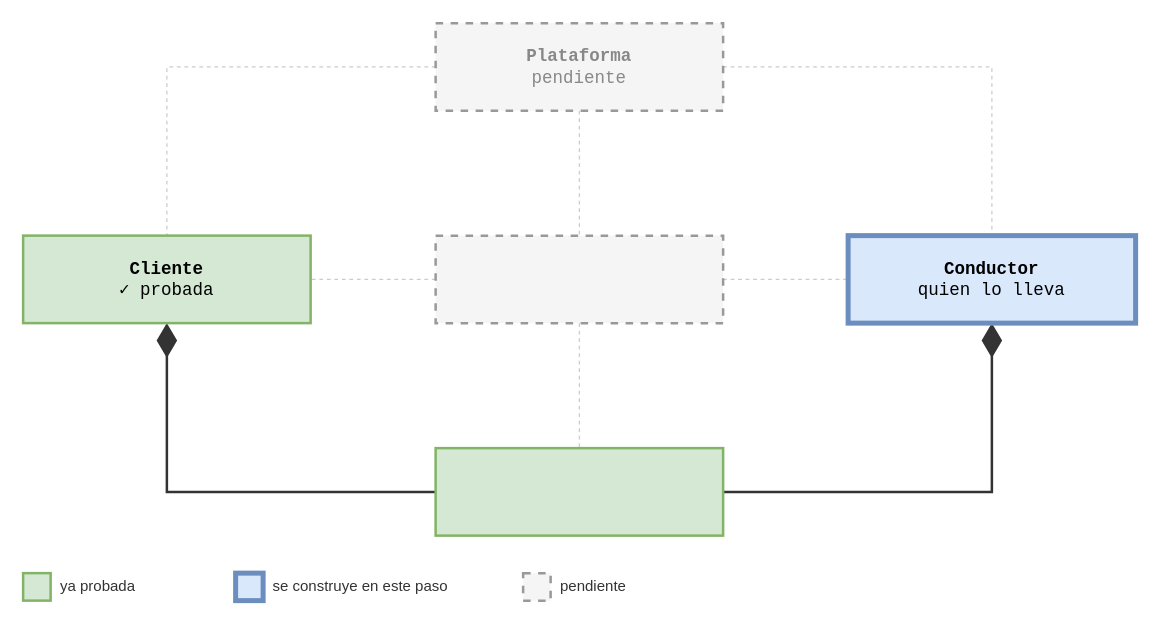
Image size: 1159x624. Some labels were removed from this diagram. Here are the shapes that lost their labels. From the top down, the box of each, then its label:
(434, 234, 724, 324): Viaje pendiente
(434, 446, 724, 536): Punto ✓ probada
